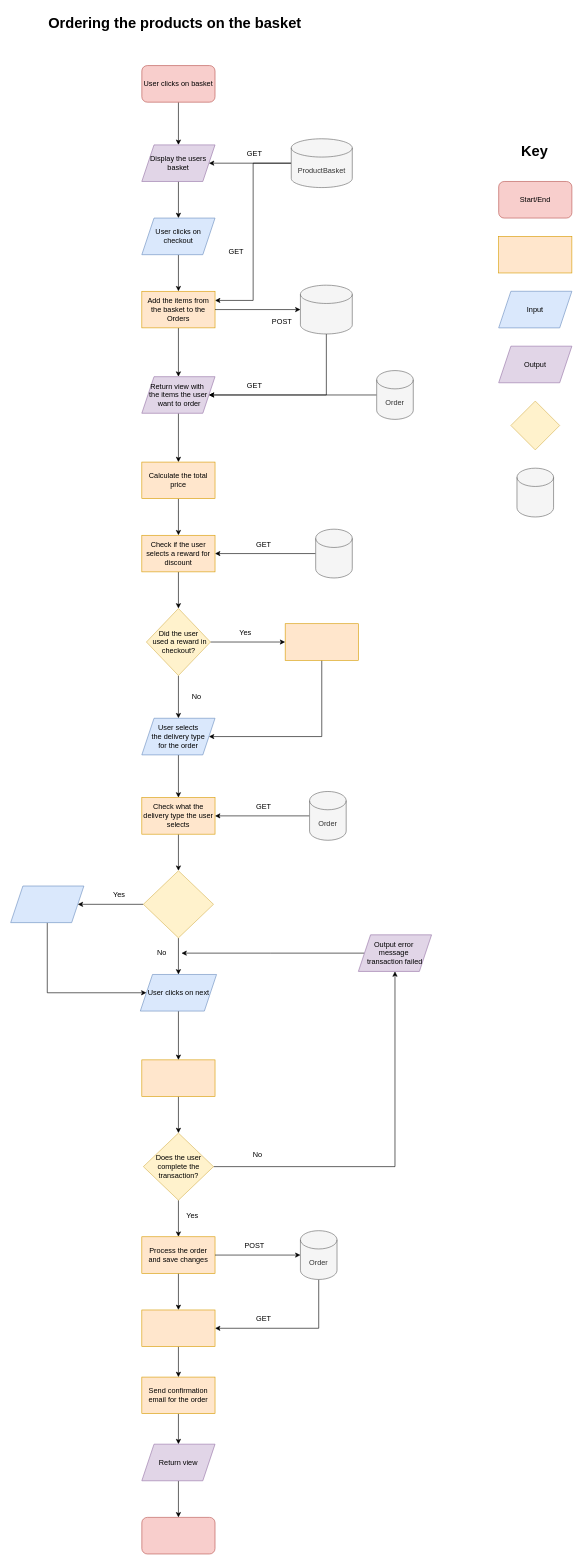
This 583x1565 diagram has some shape labels left out. Here are the shapes that lost their labels. From the top down, the box of each, then its label:
(498, 236, 572, 273): Process
(300, 285, 352, 334): OrderProduct
(510, 400, 560, 450): Decision
(516, 468, 554, 517): Database
(315, 529, 352, 578): Rewards
(285, 623, 358, 660): Calculate the Total Price with the discount applied
(10, 885, 84, 923): User inputs Delivery Address
(143, 870, 214, 938): Did the user select delivery for the delivery type?
(141, 1059, 215, 1096): Redirect to Payment
(141, 1309, 215, 1347): Print a receipt for the order
(141, 1517, 215, 1554): End
